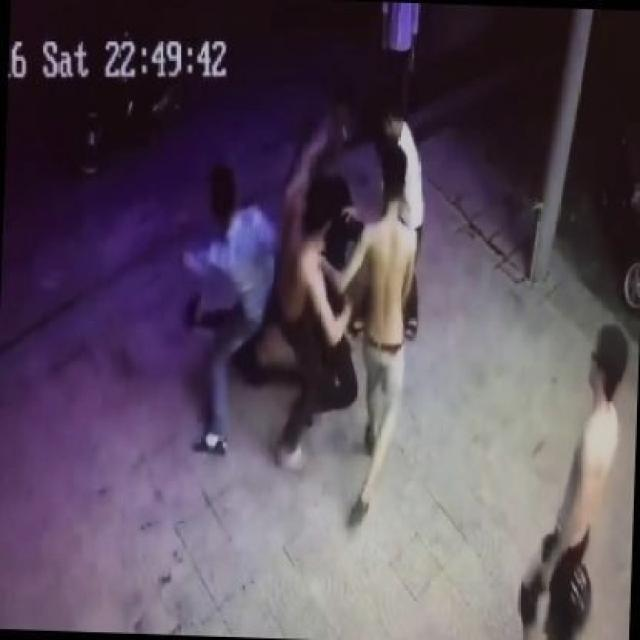fight: (176, 115, 362, 468), (311, 141, 422, 530), (347, 91, 427, 342)
non-fight: (512, 316, 632, 640)
